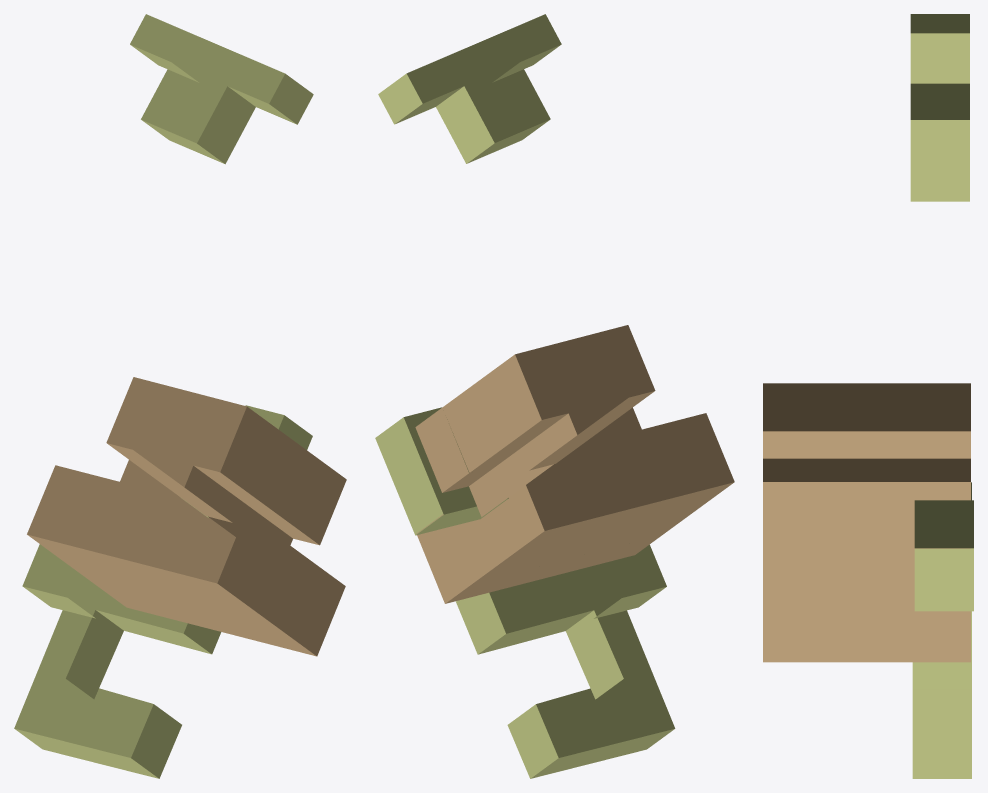
3 views of the same model, side by side, from view 1: azimuth 30°, elevation 25°; view 2: azimuth 150°, elevation 25°; view 3: azimuth 270°, elevation 25° (orthographic). The views are drawn at different scales.
Visible parts, largest first — view 1: 0_1_0_0_0_1_0_2; view 2: 0_1_0_0_0_1_0_2; view 3: 0_1_0_0_0_1_0_2.
Boxes of the visible parts, x1,y1,x2,y2 form: 0_1_0_0_0_1_0_2: (14, 14, 346, 778); 0_1_0_0_0_1_0_2: (375, 14, 734, 778); 0_1_0_0_0_1_0_2: (763, 14, 973, 778).
Size of the model in its own units: 32.94 by 86.02 by 21.3.
